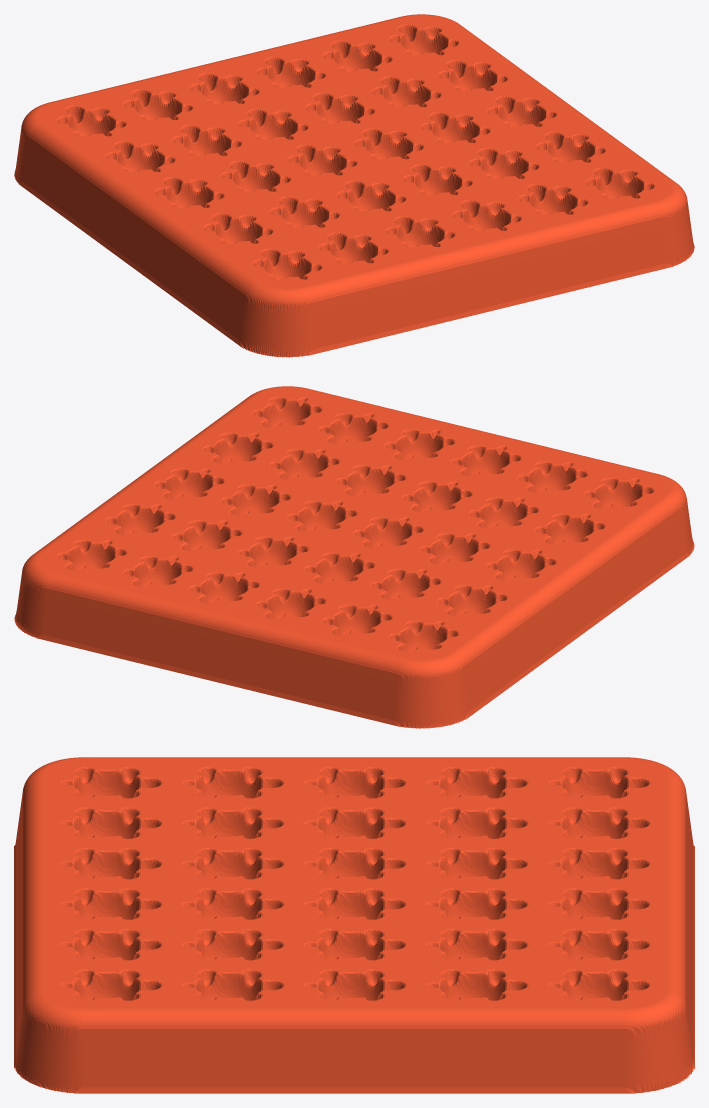
Rendered from mold.glb.
3 renders of one model, top to bottom at view 1: azimuth 30°, elevation 25°; view 2: azimuth 150°, elevation 25°; view 3: azimuth 270°, elevation 25°, orthographic. The views are drawn at different scales.
Parts seen in each view (by area): view 1: geometry_0; view 2: geometry_0; view 3: geometry_0.
Boxes of the visible parts, left/top/right/bottom form: geometry_0: left=14, top=14, right=694, bottom=357; geometry_0: left=14, top=386, right=694, bottom=728; geometry_0: left=14, top=757, right=694, bottom=1093.
Bounding box in the file's own units: 0.0836 × 0.0105 × 0.0882.
